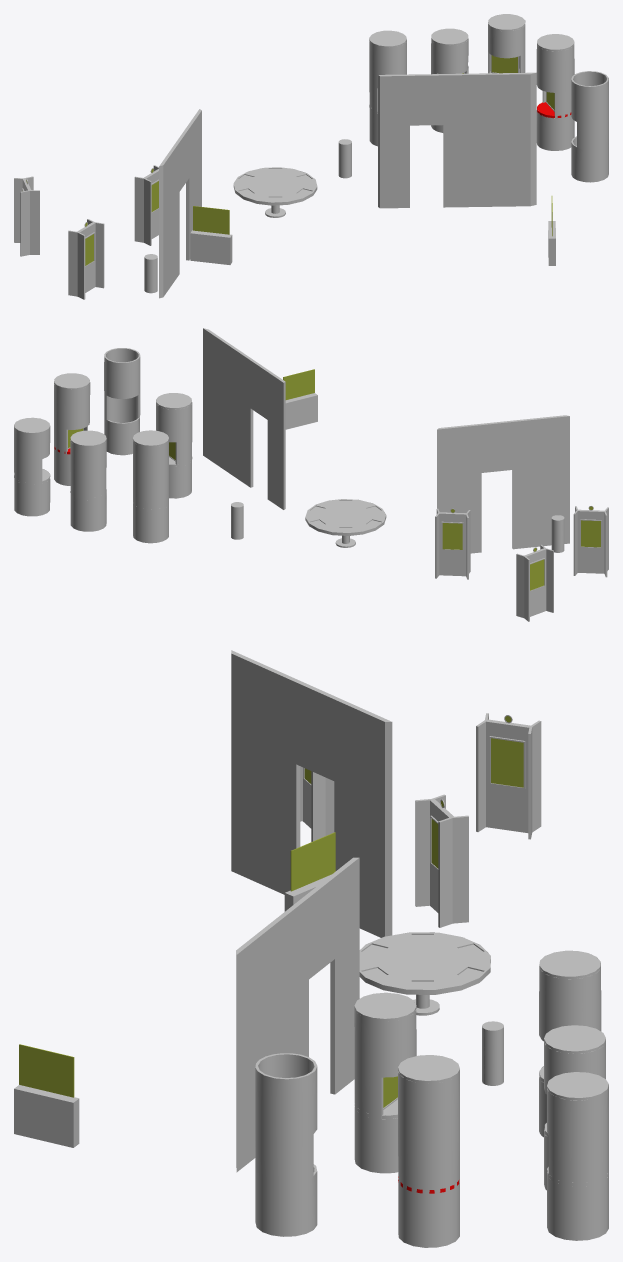
Rendered from Allestimento_gr15.obj.
3 renders of one model, top to bottom at view 1: azimuth 30°, elevation 25°; view 2: azimuth 150°, elevation 25°; view 3: azimuth 270°, elevation 25°, orthographic. The views are drawn at different scales.
Size of the model in its own units: 373 by 87.67 by 217.
